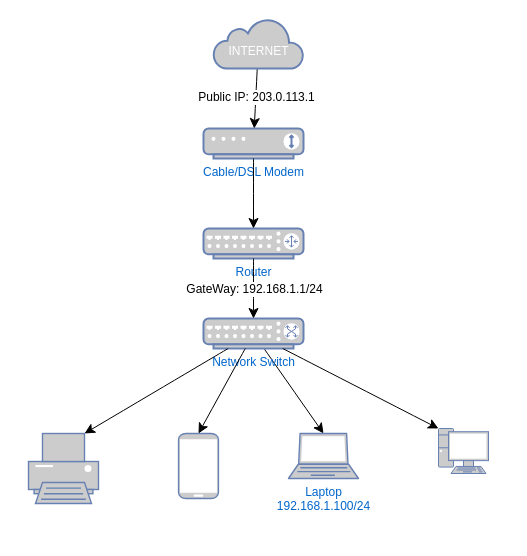
Some shapes in this 527 by 556 pixel diagram are drawn without their labels. The shapes that lost their labels are listed below. From the top down, each one's box as (x1, y1, x2, y2) in pixels, then its label:
(27, 432, 99, 504): Printer 192.168.1.102/24
(177, 432, 219, 499): Phone 192.168.1.103/24
(437, 427, 489, 474): PC 192.168.1.101/24
